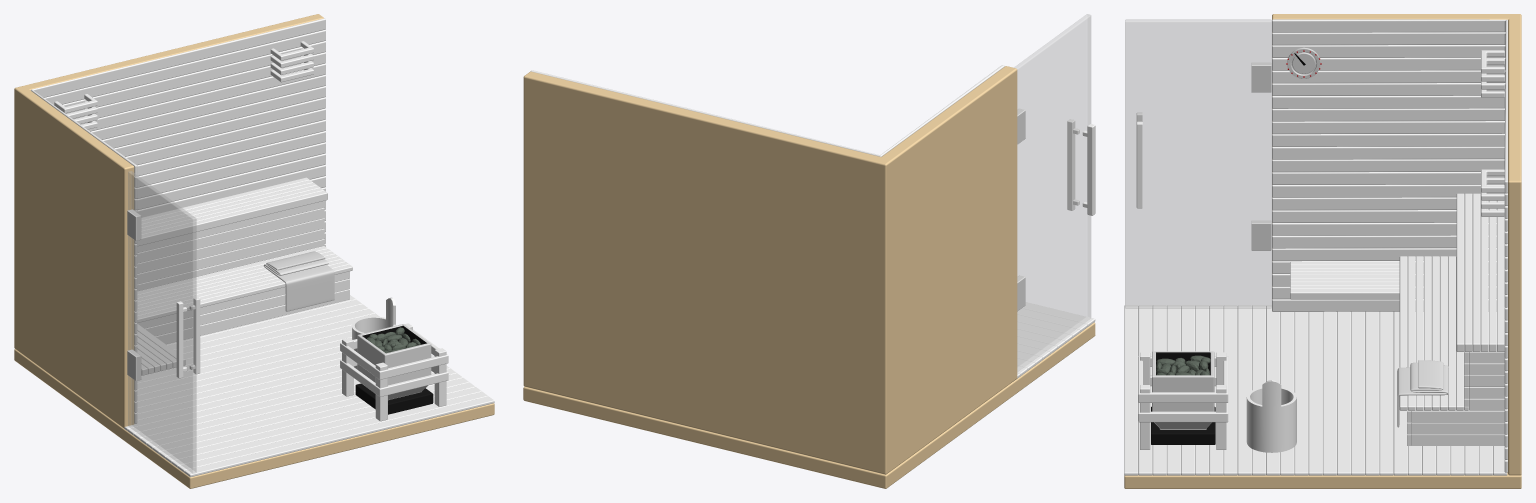
The model's file is Sauna Room.gltf.
The picture shows the model from 3 angles, left to right: view 1: azimuth 30°, elevation 25°; view 2: azimuth 150°, elevation 25°; view 3: azimuth 270°, elevation 25°; orthographic projection. The views are drawn at different scales.
Visible parts, largest first — view 1: Cube.004, Cube.001, Cube.002, Cube.003, Cube.011, Cube, Cube.012, Cube.007, Cube.009, Cube.019, Plane, Cube.018 (+10 smaller); view 2: Cube.001, Cube.003, Cube, Cube.002, Cube.004, Cube.022, Cube.020; view 3: Cube.004, Cube.003, Cube.002, Cube.001, Cube.007, Cube.012, Cube, Cube.013, Cube.019, Cube.008, Cylinder.001, Cube.010 (+10 smaller).
Boxes of the visible parts, bbox=[...] form: Cube.004: bbox=[31, 18, 325, 423]; Cube.001: bbox=[14, 14, 323, 428]; Cube.002: bbox=[122, 295, 494, 477]; Cube.003: bbox=[128, 171, 196, 473]; Cube.011: bbox=[137, 201, 324, 290]; Cube: bbox=[14, 349, 494, 488]; Cube.012: bbox=[137, 177, 327, 245]; Cube.007: bbox=[137, 246, 352, 322]; Cube.009: bbox=[137, 271, 349, 344]; Cube.019: bbox=[355, 324, 433, 414]; Plane: bbox=[263, 251, 334, 311]; Cube.018: bbox=[342, 323, 446, 421]; Cube.001: bbox=[523, 66, 1017, 474]; Cube.003: bbox=[1014, 14, 1090, 371]; Cube: bbox=[523, 322, 1095, 488]; Cube.002: bbox=[1013, 302, 1095, 381]; Cube.004: bbox=[530, 65, 1004, 156]; Cube.022: bbox=[1087, 124, 1095, 215]; Cube.020: bbox=[1067, 119, 1075, 210]; Cube.004: bbox=[1272, 19, 1507, 472]; Cube.003: bbox=[1125, 19, 1271, 308]; Cube.002: bbox=[1124, 305, 1507, 475]; Cube.001: bbox=[1272, 14, 1521, 475]; Cube.007: bbox=[1399, 256, 1468, 410]; Cube.012: bbox=[1456, 193, 1504, 351]; Cube: bbox=[1124, 472, 1521, 488]; Cube.013: bbox=[1290, 262, 1399, 299]; Cube.019: bbox=[1151, 351, 1215, 444]; Cube.008: bbox=[1411, 410, 1504, 445]; Cylinder.001: bbox=[1246, 380, 1296, 452]; Cube.010: bbox=[1469, 351, 1504, 410].
Size of the model in its own units: 6.22 by 5.23 by 6.11.
